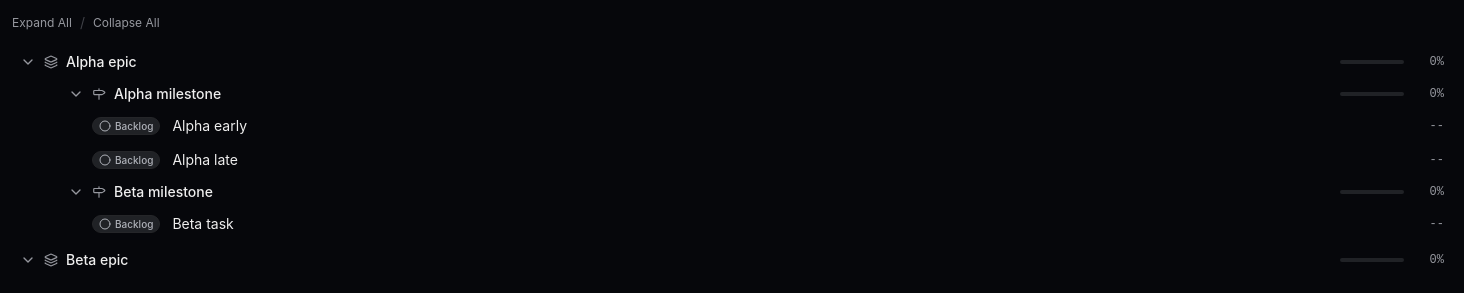
Test case: ProjectTree › keeps epics, milestones, and tasks in sort order while toggling individual nodes
Check: the button "Beta epic 0%" is shown, box 12,244 -> 1452,276
Check: the button "Alpha milestone 0%" is shown, box 12,78 -> 1452,110
Click the button "Alpha epic 0%" at (101, 61), box 12,46 -> 1452,78
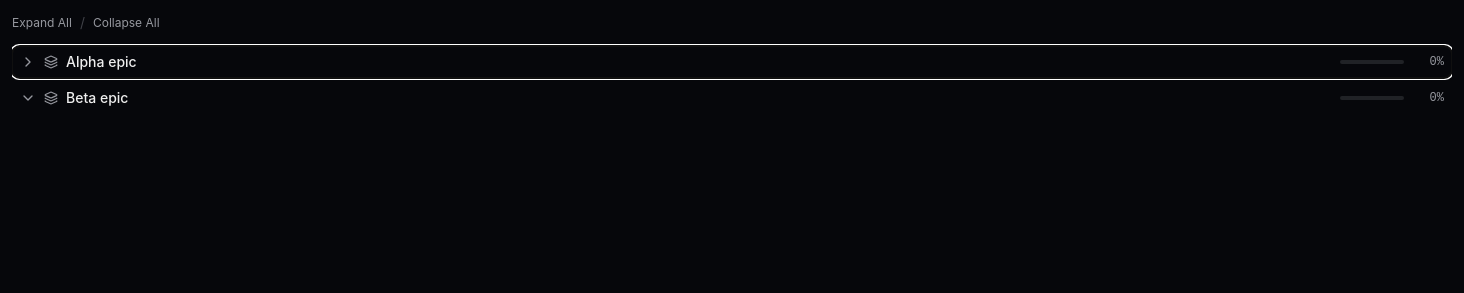
Check: the text "Alpha early" is gone
Click the button "Alpha epic 0%" at (101, 61), box 12,46 -> 1452,78
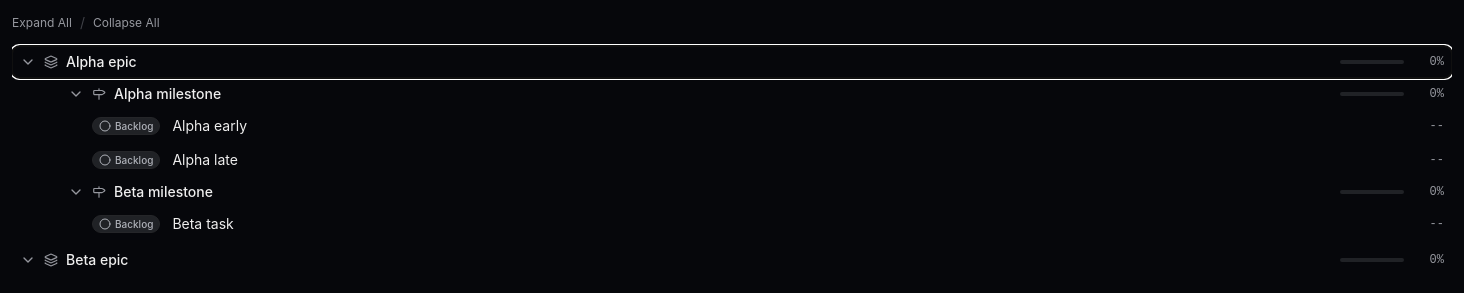
Check: the text "Alpha early" is shown, box 172,117 -> 247,134
